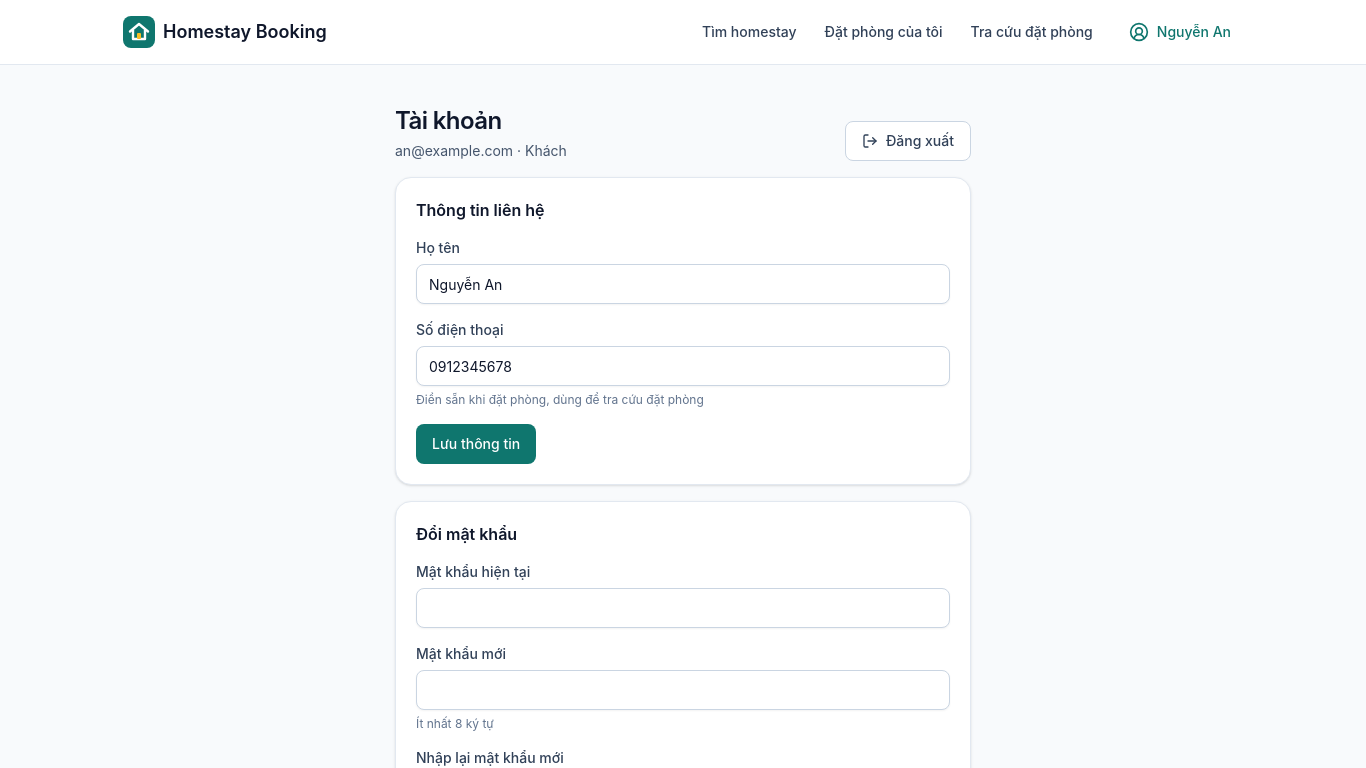
Test: tài khoản › đã đăng nhập: thanh trên hiện tên, trang tài khoản lưu được thông tin
Check: the heading "Tài khoản" is shown, box [395,106,502,135]
Step 1. Replace the text in the field labelled "Họ tên" with "Nguyễn Văn An" → x=683, y=284, box [416,264,950,304]
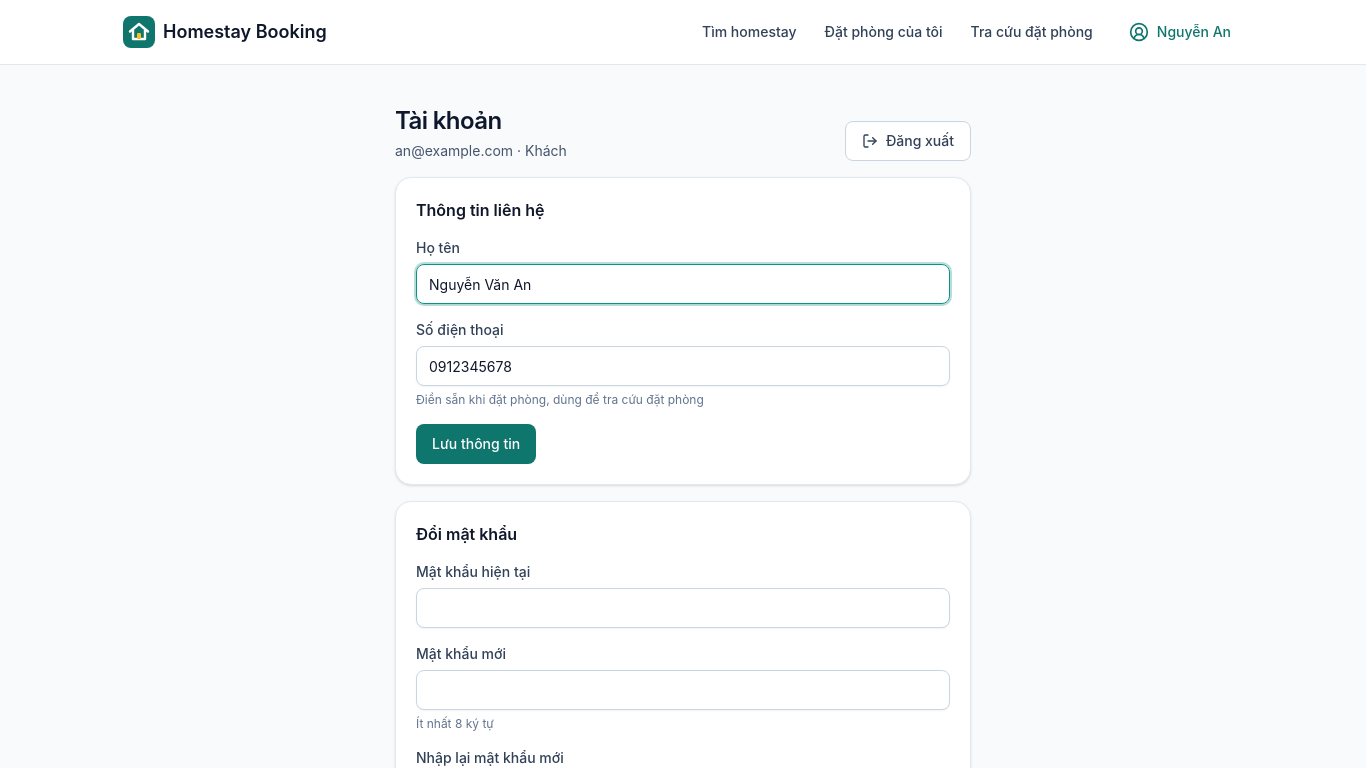
Step 2. Click the button "Lưu thông tin" → x=476, y=444, box [416,424,536,464]
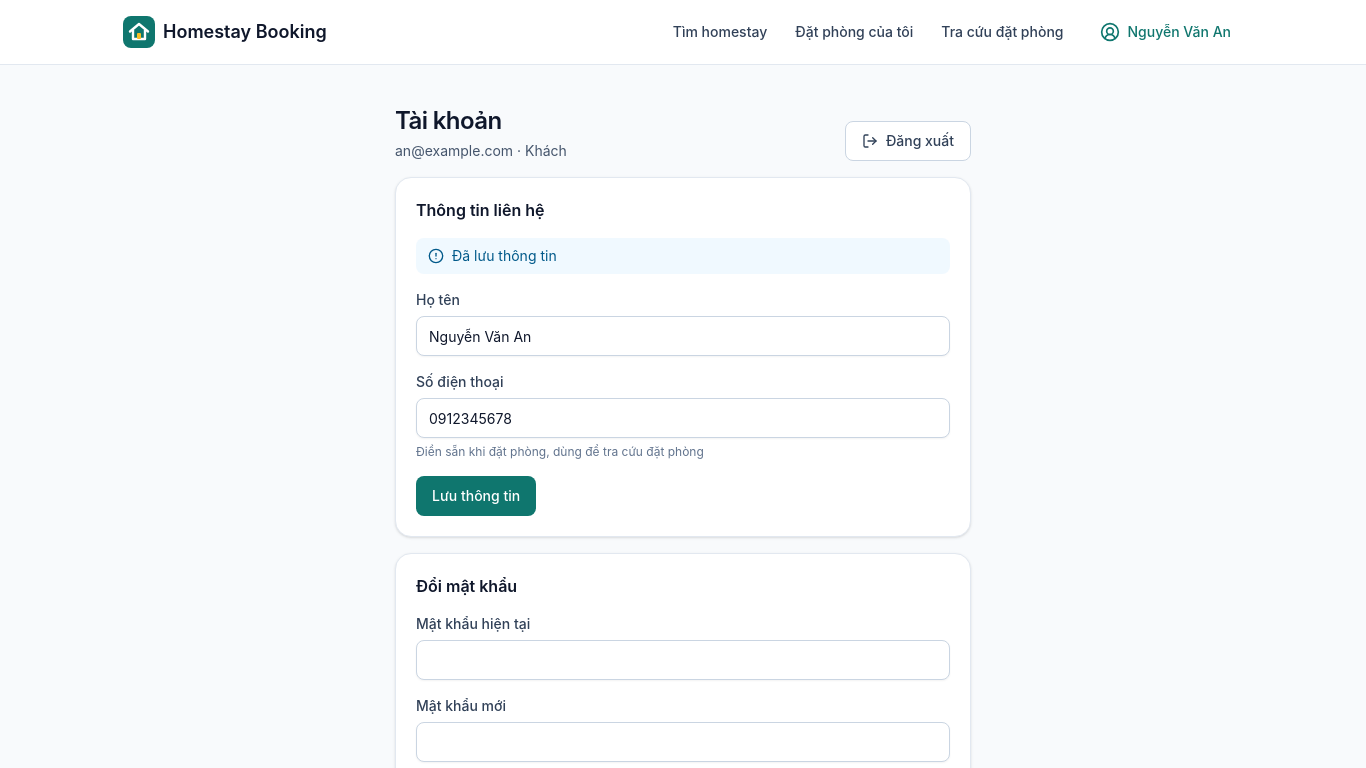
Check: the text "Đã lưu thông tin" is shown, box [452,246,557,266]
Check: the link "Nguyễn Văn An" is shown, box [1100,22,1231,42]
